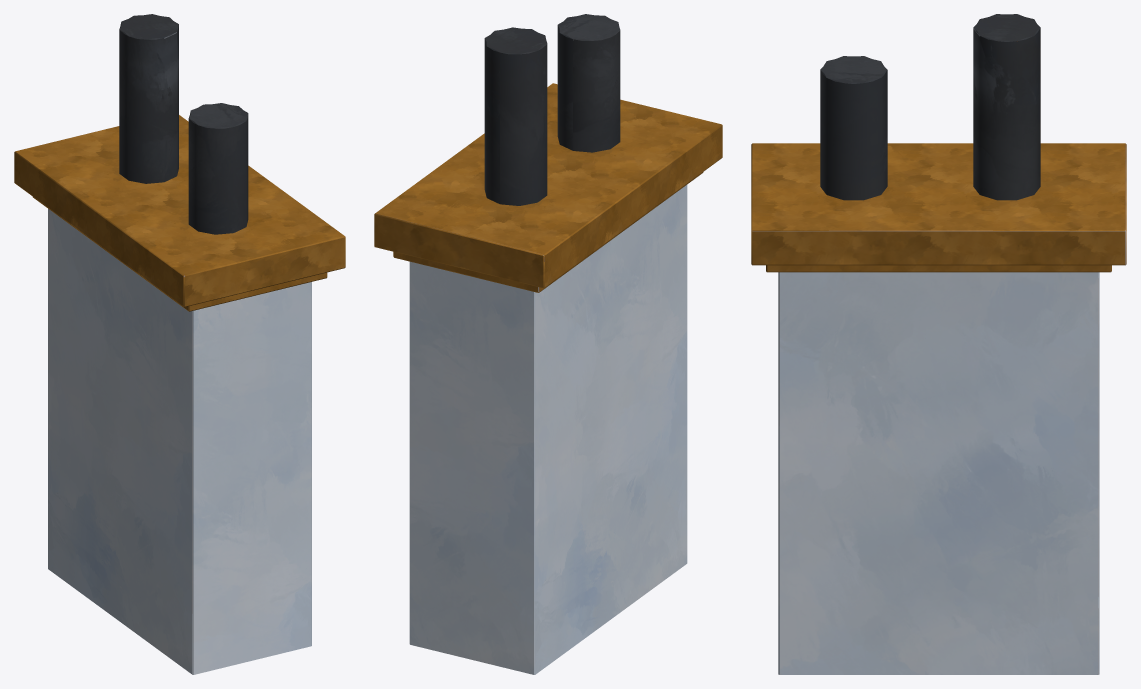
The model's file is Pipe.fbx.
3 views of the same model, side by side, from view 1: azimuth 30°, elevation 25°; view 2: azimuth 150°, elevation 25°; view 3: azimuth 270°, elevation 25° (orthographic). The views are drawn at different scales.
Parts seen in each view (by area): view 1: Pipe; view 2: Pipe; view 3: Pipe.
Part boxes in pixels (x1,y1,x2,y2): Pipe: [14, 14, 345, 674]; Pipe: [374, 14, 722, 674]; Pipe: [751, 14, 1126, 674].
Bounding box in the file's own units: 90.13 × 296 × 164.
